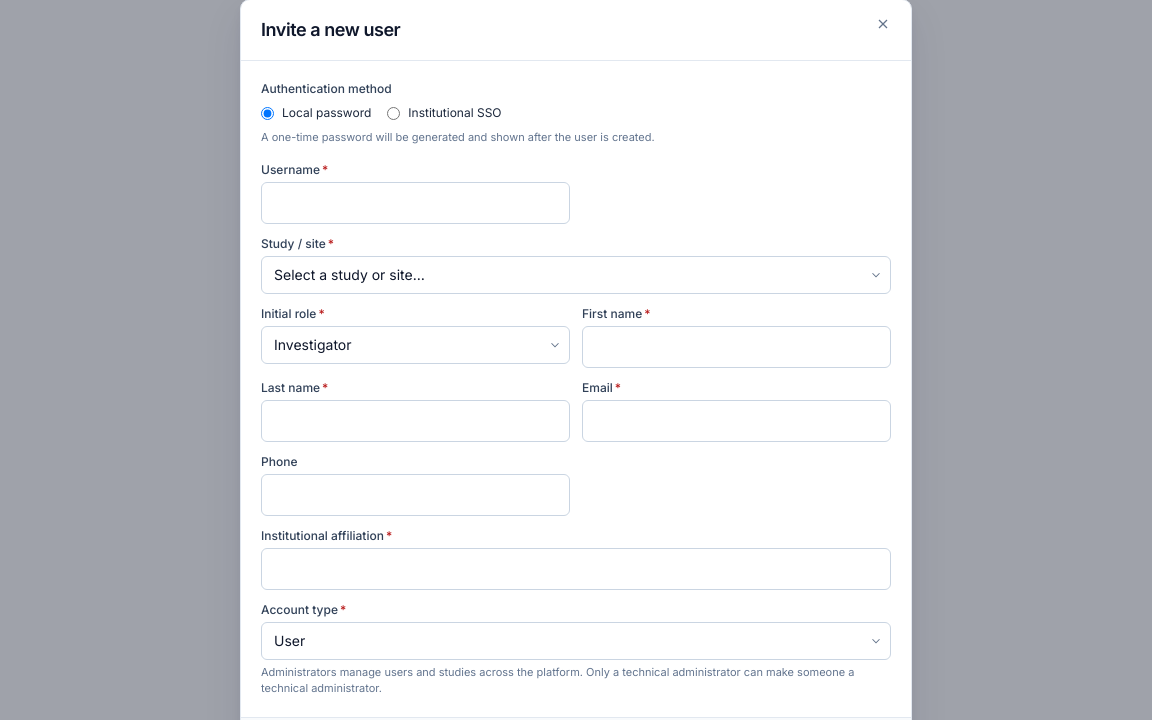
Test case: InviteUserDialog — SSO branch (Phase E.6) › keeps submit disabled until SSO branch has a valid-looking eppn
The width and height of the screenshot is (1152, 720).
(page scrolled)
Step 1. Type "newuser" into the field with id "invite-username" → (416, 202), box [261,182,570,224]
Step 2. Type "New" into the field with id "invite-firstname" → (736, 346), box [582,326,891,368]
Step 3. Type "User" into the field with id "invite-lastname" → (416, 420), box [261,400,570,442]
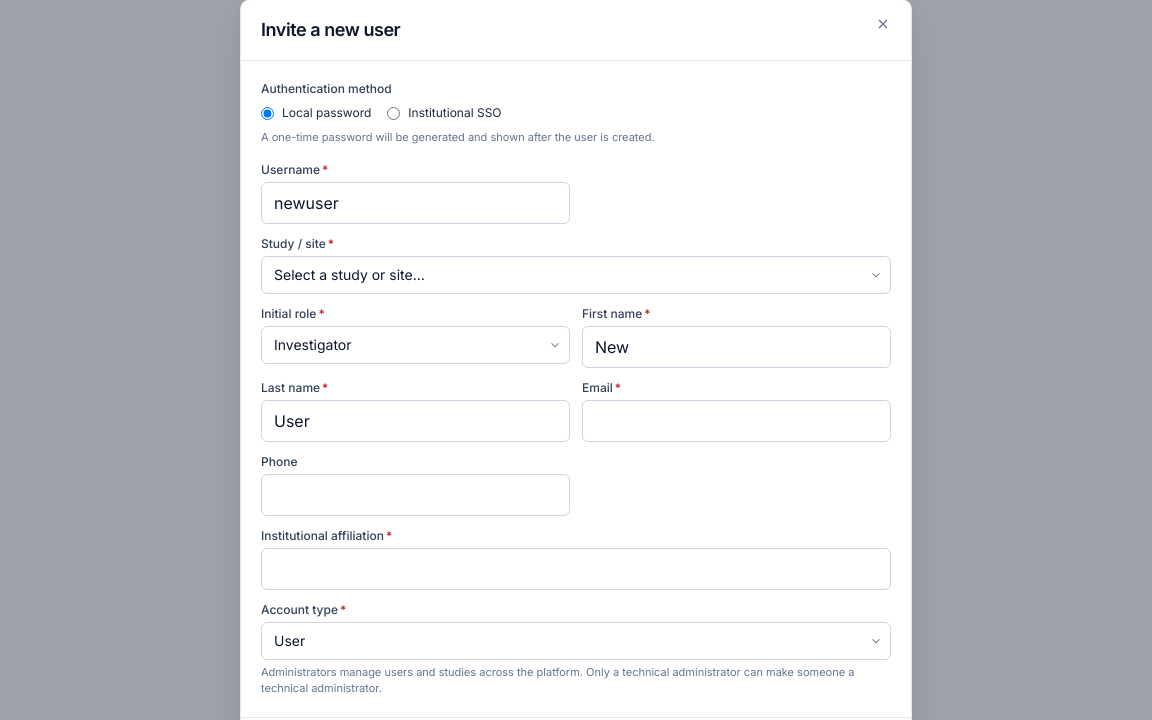
Step 4. Type "newuser@example.org" into the field with id "invite-email" → (736, 420), box [582,400,891,442]
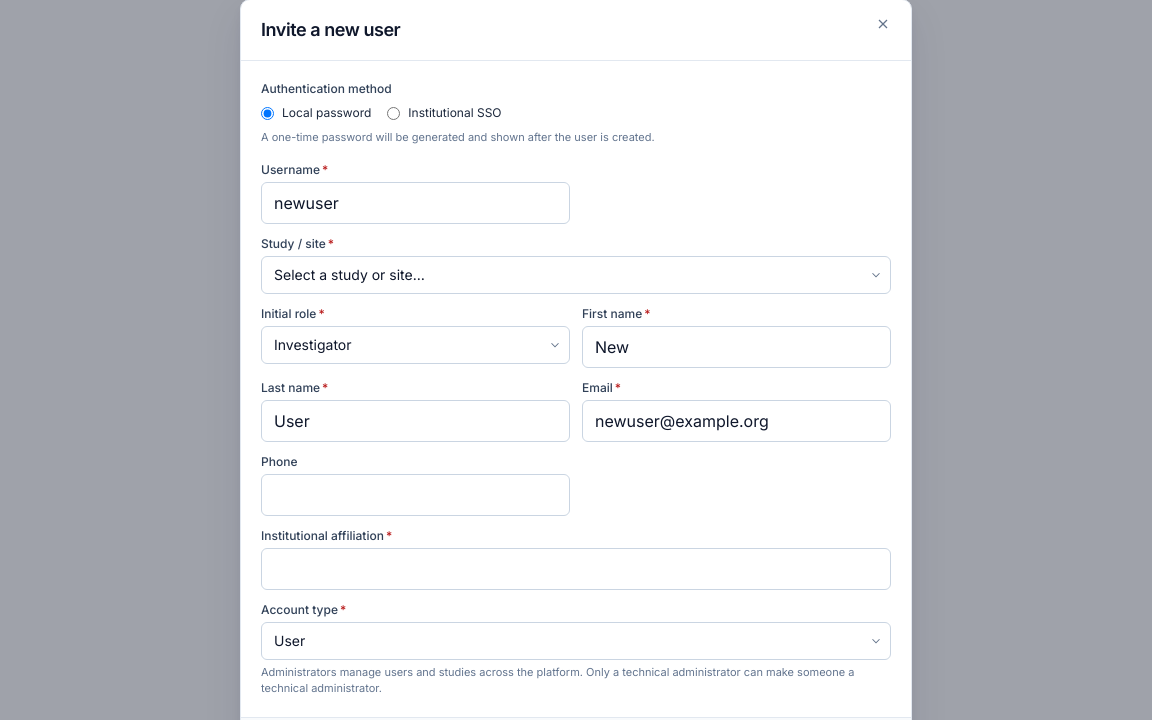
Step 5. Type "Dept. of Ophthalmology" into the field with id "invite-affiliation" → (576, 568), box [261,548,891,590]
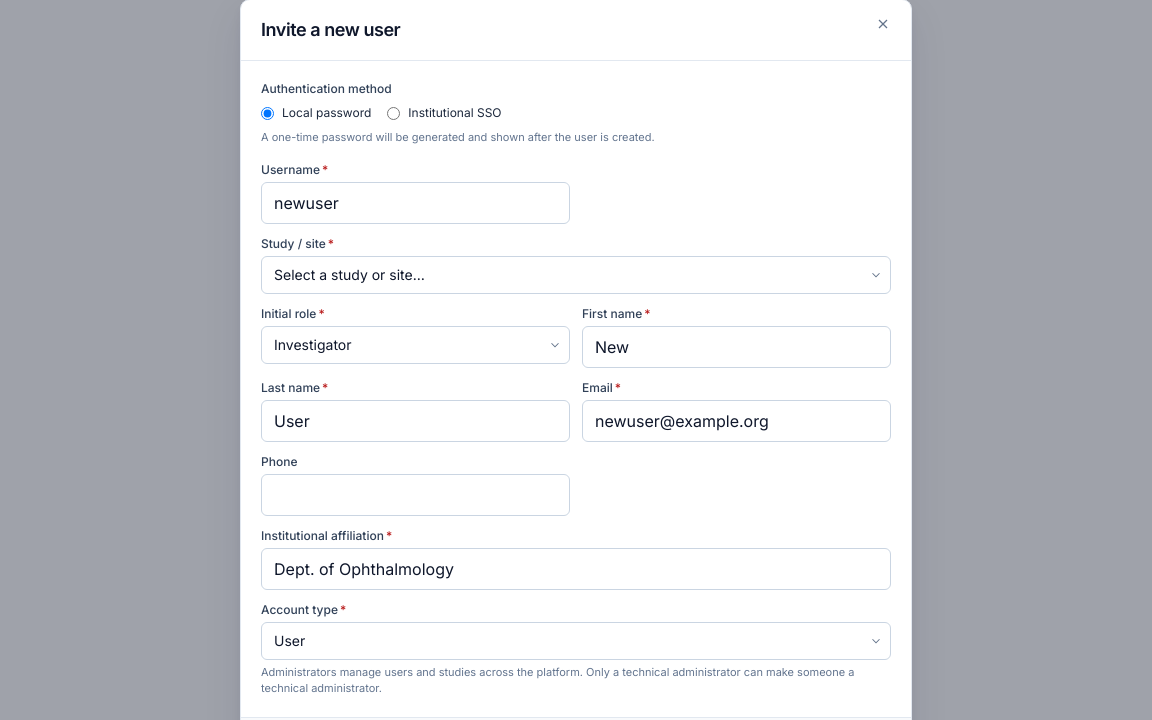
Step 6. Click the radio button named "invite-authmethod" → (394, 113), box [387,106,400,120]
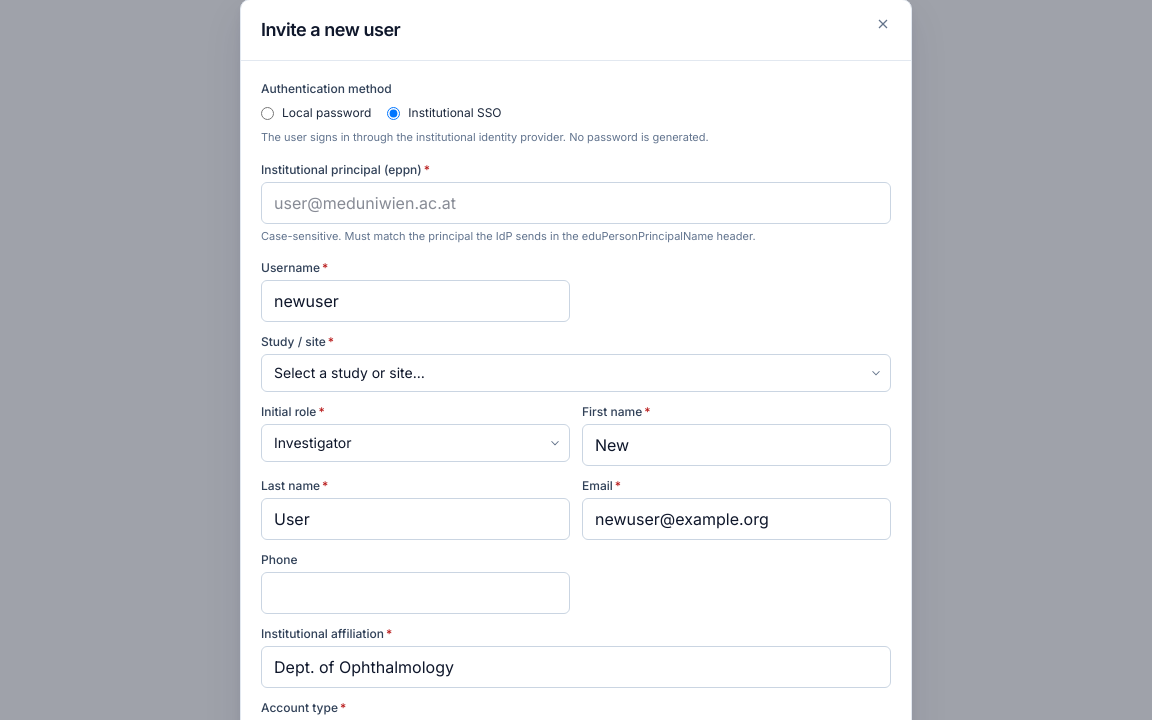
Step 7. Type "justastring" into the field with id "invite-externalid" → (576, 202), box [261,182,891,224]
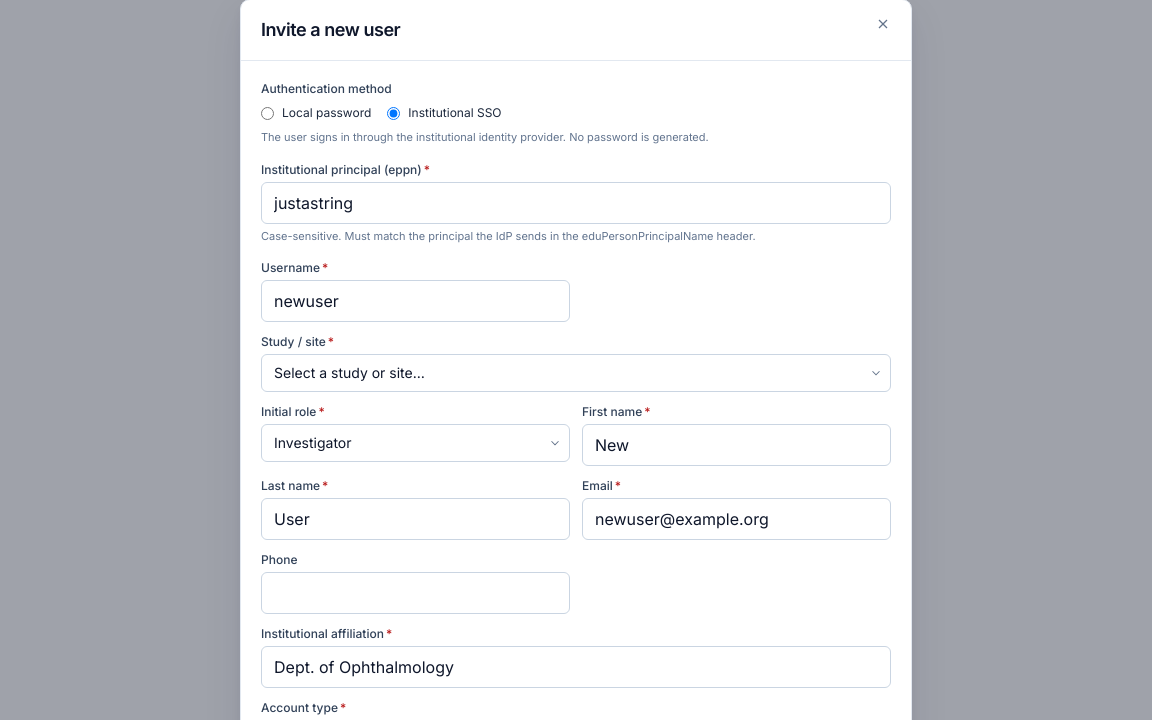
Step 8. Replace the text in the field with id "invite-externalid" with "someone@meduniwien.ac.at" → (576, 202), box [261,182,891,224]
(page scrolled)
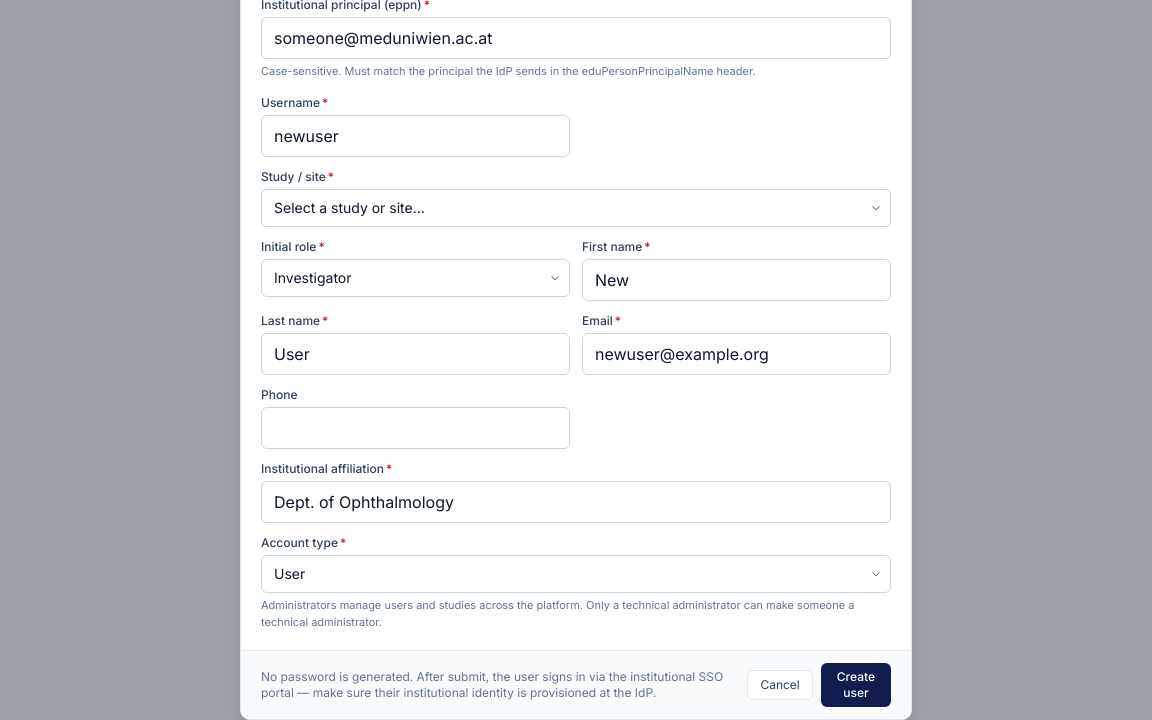
Check: the button "Create user" is enabled, box [821,663,891,707]
